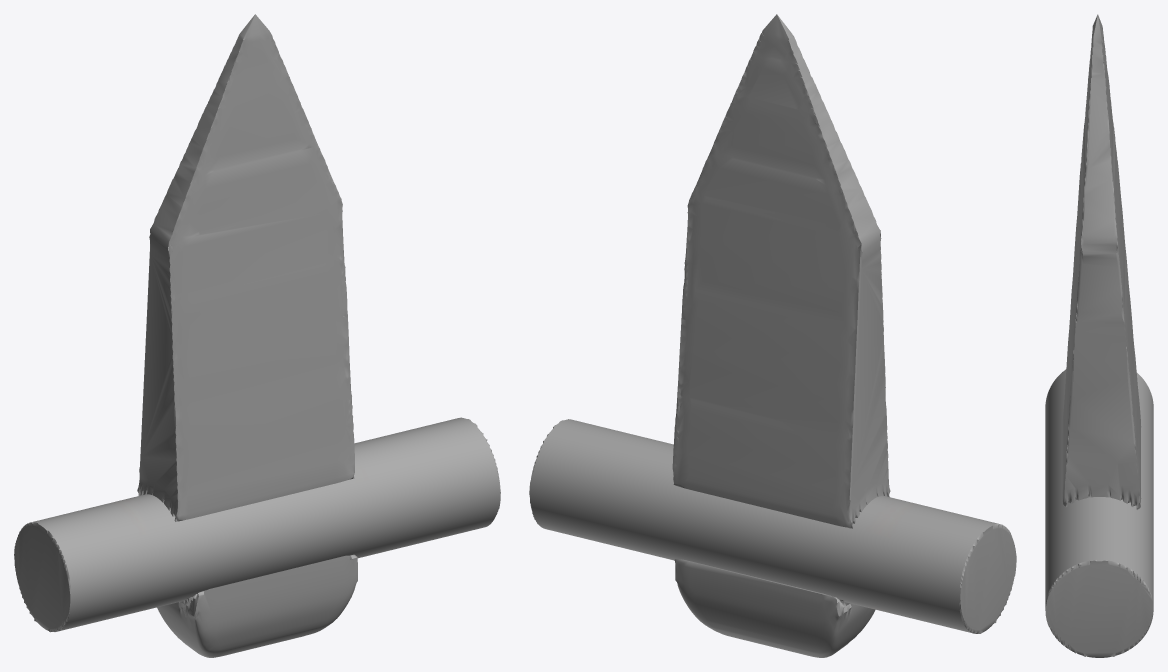
The picture shows the model from 3 angles, left to right: view 1: azimuth 30°, elevation 25°; view 2: azimuth 150°, elevation 25°; view 3: azimuth 270°, elevation 25°; orthographic projection. The views are drawn at different scales.
Parts seen in each view (by area): view 1: MeshDrawObject; view 2: MeshDrawObject; view 3: MeshDrawObject.
Part boxes in pixels (x1=…): MeshDrawObject: x1=14, y1=14, x2=500, y2=657; MeshDrawObject: x1=529, y1=14, x2=1016, y2=657; MeshDrawObject: x1=1045, y1=14, x2=1153, y2=657.
Bounding box in the file's own units: 129 × 180 × 29.27.
1 material, 1 textured.
